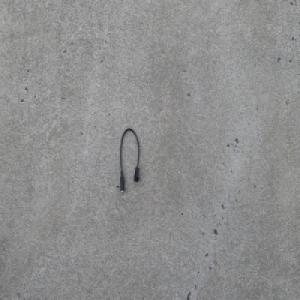Wire: (118, 127, 139, 195)
